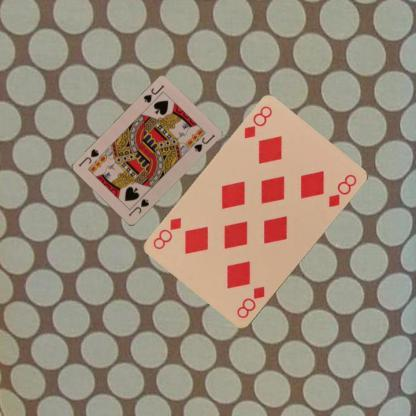8d: (240, 103, 274, 141), (233, 284, 266, 320)
Js: (141, 82, 166, 104), (126, 196, 150, 218)
